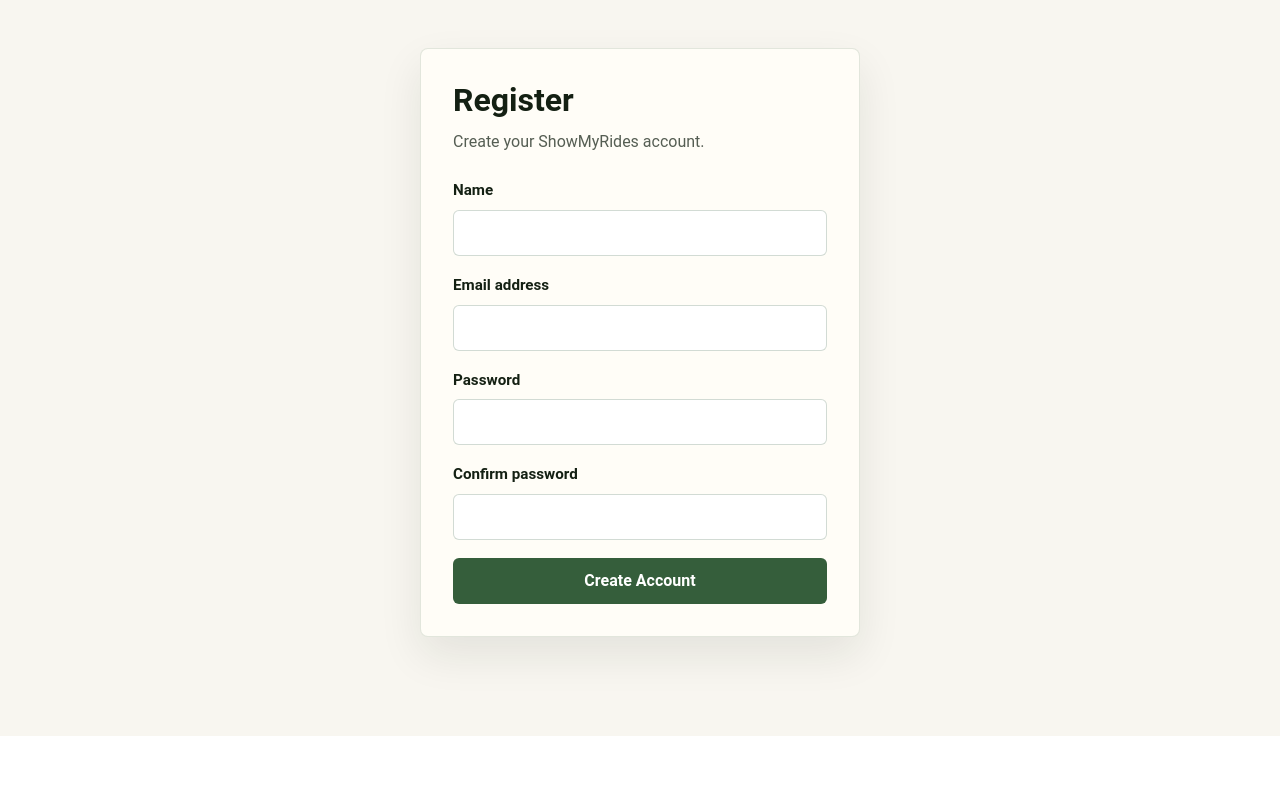
Test: RegisterView › shows server registration errors without redirecting
Type "New Rider" into the field with id "register-name" at (640, 233), box [453, 210, 827, 256]
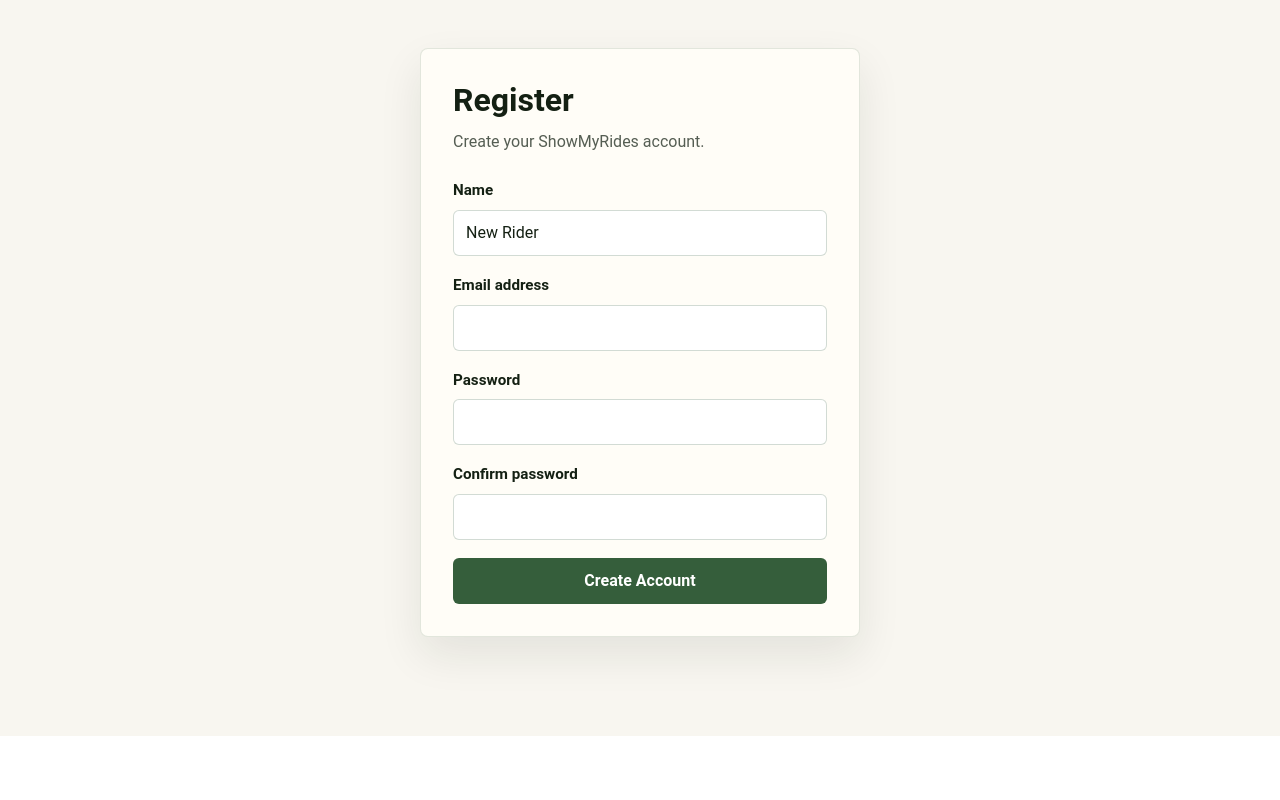
Type "new@example.com" into the field with id "register-email" at (640, 328), box [453, 305, 827, 351]
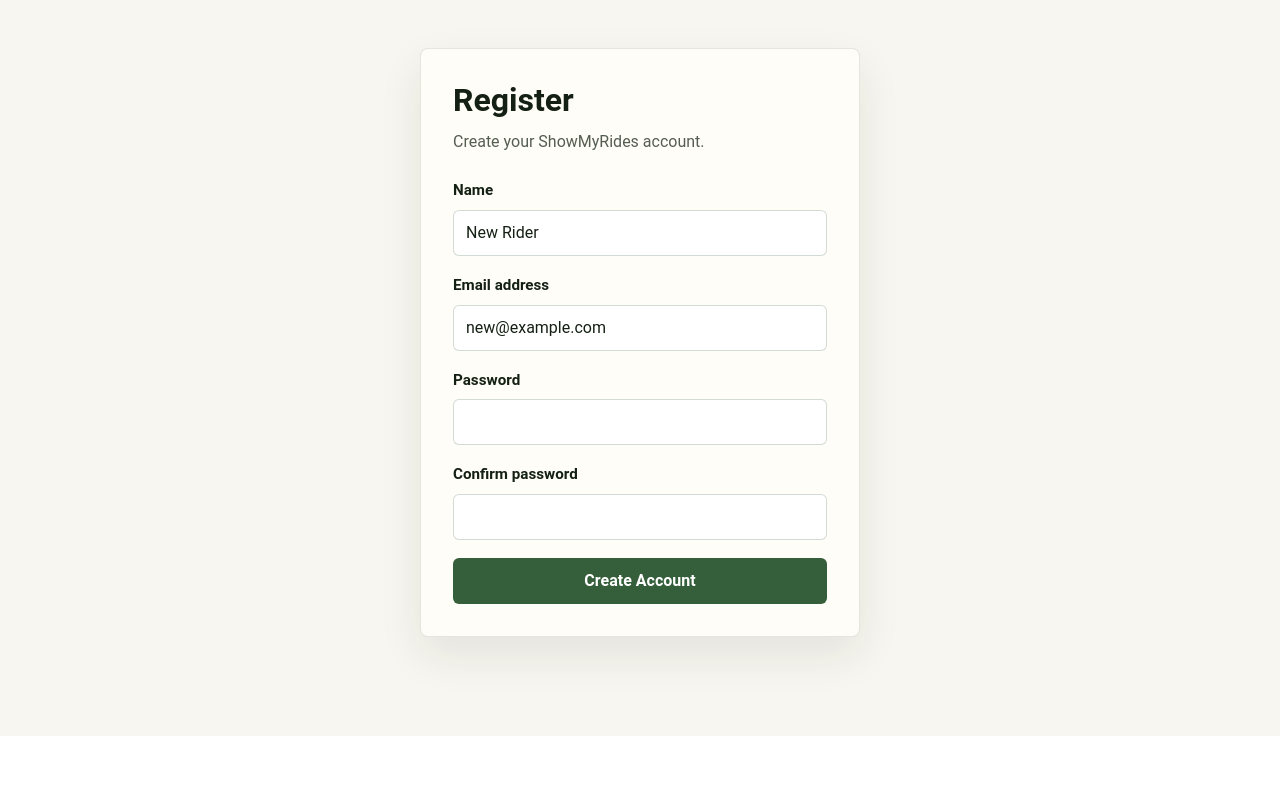
Type "password" into the password field with id "register-password" at (640, 422), box [453, 399, 827, 445]
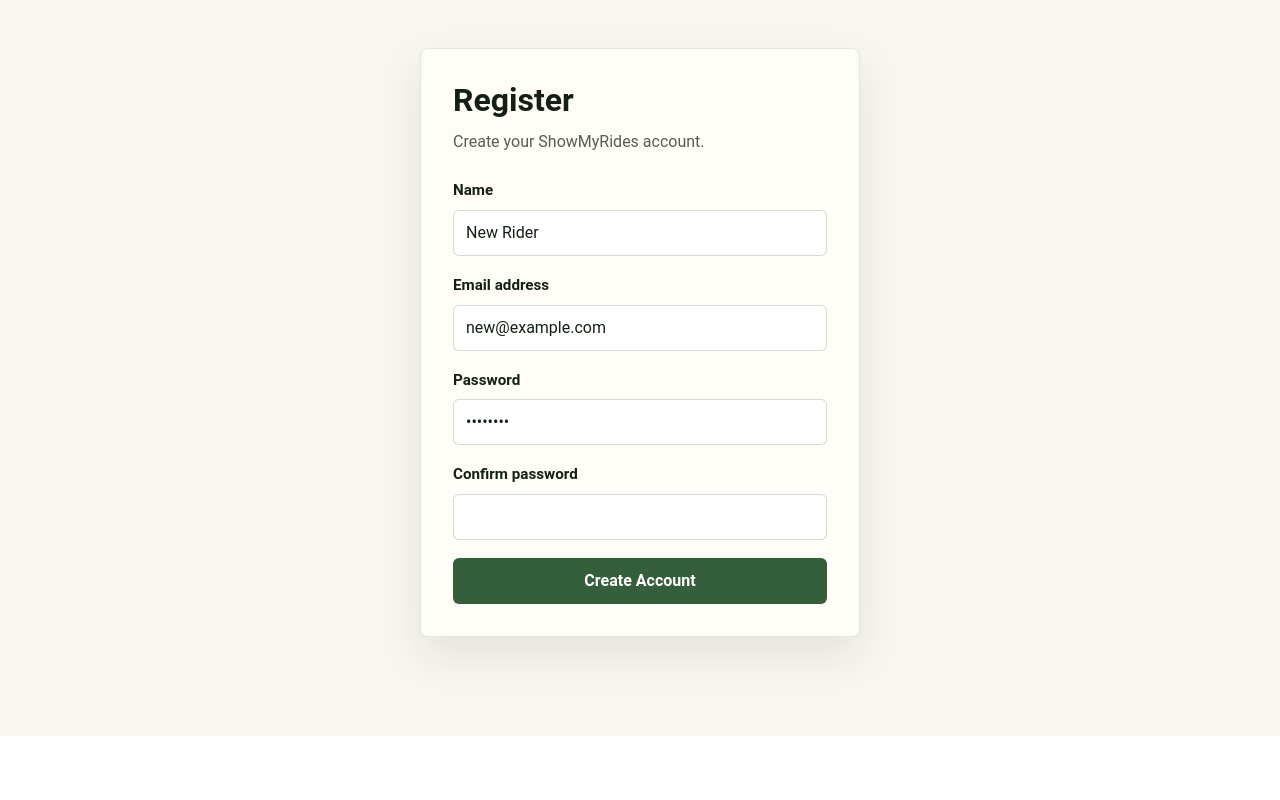
Type "password" into the password field with id "register-password-confirmation" at (640, 517), box [453, 494, 827, 540]
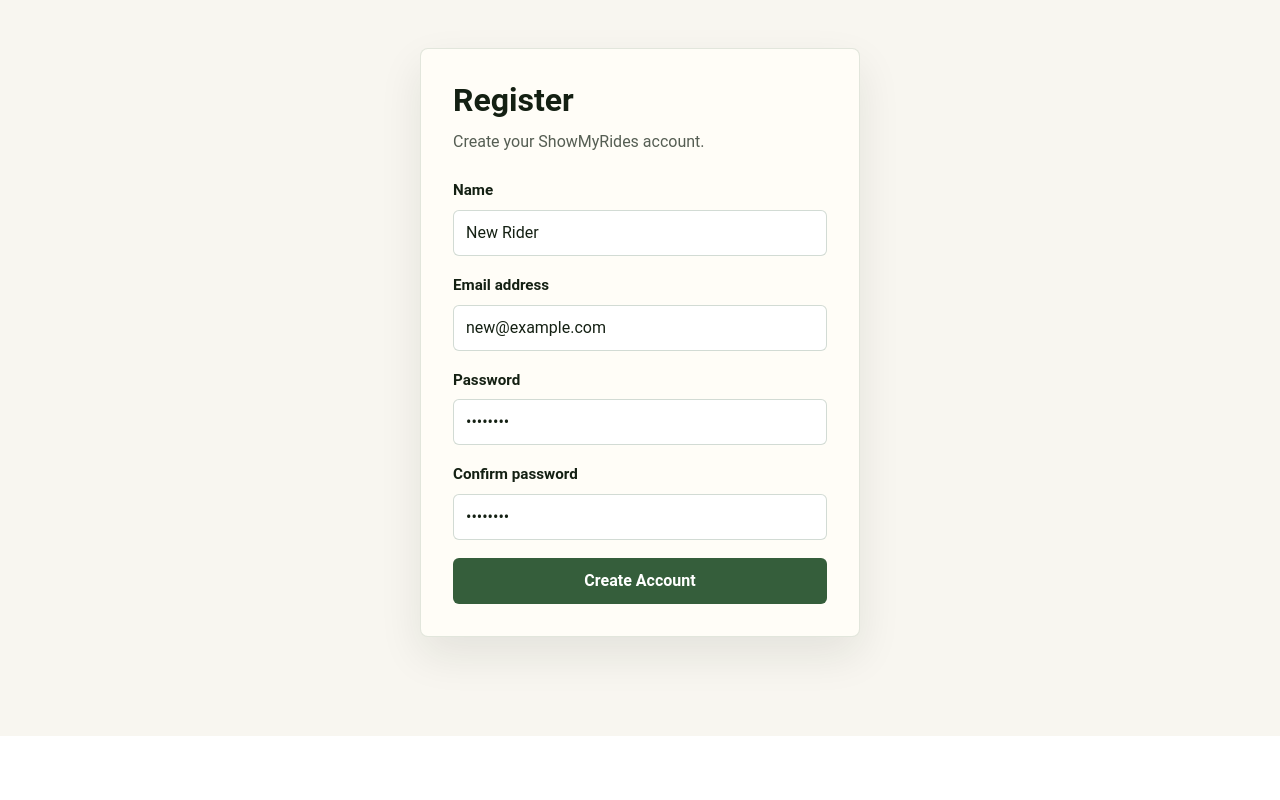
Submit the form, box [453, 179, 827, 604]
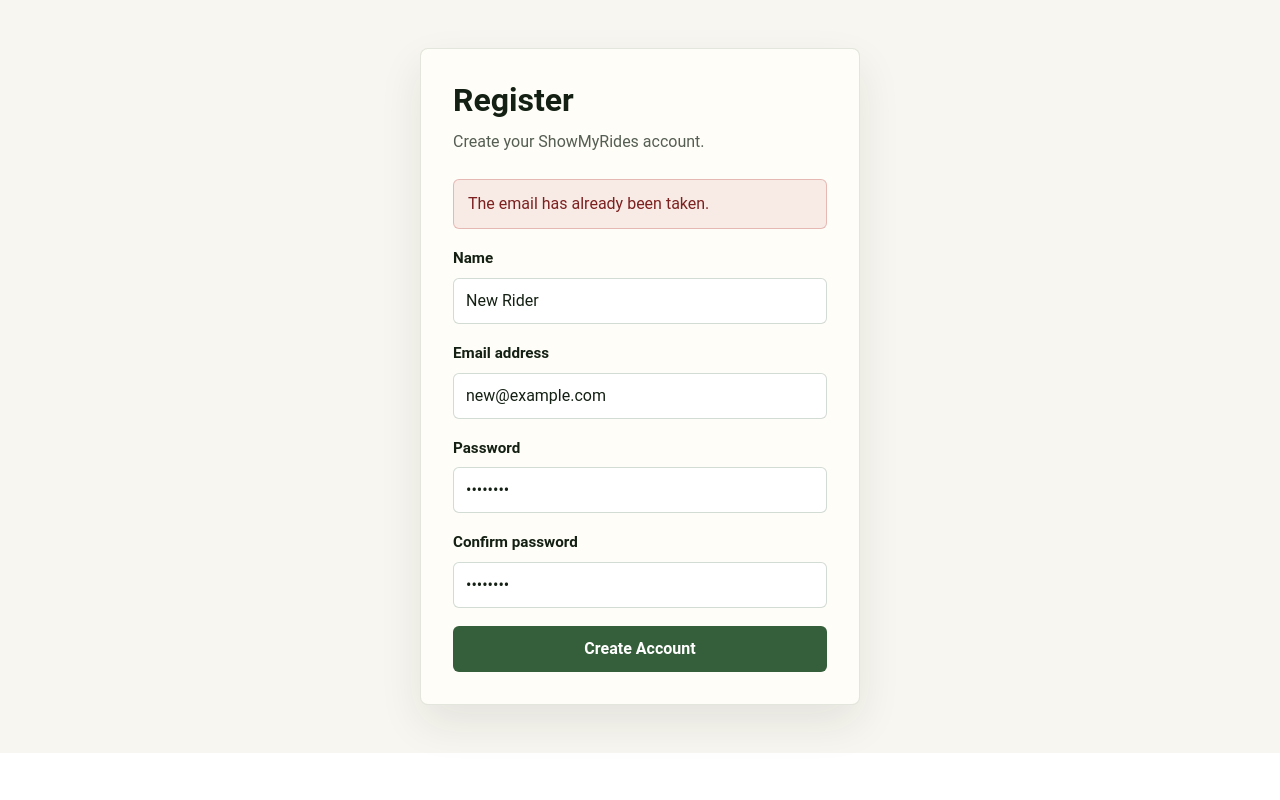
Now the text "The email has already been taken." is shown, box [453, 179, 827, 229]
